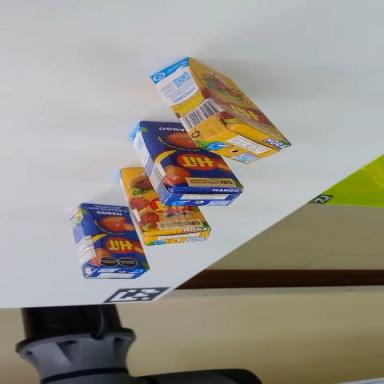HIT-MANGO: (110, 104, 251, 237), (60, 189, 151, 295)
HIT-MORA: (141, 38, 291, 192), (121, 162, 211, 246)
cara_F: (132, 96, 243, 220), (185, 45, 290, 158), (78, 189, 150, 284), (123, 161, 210, 235)
